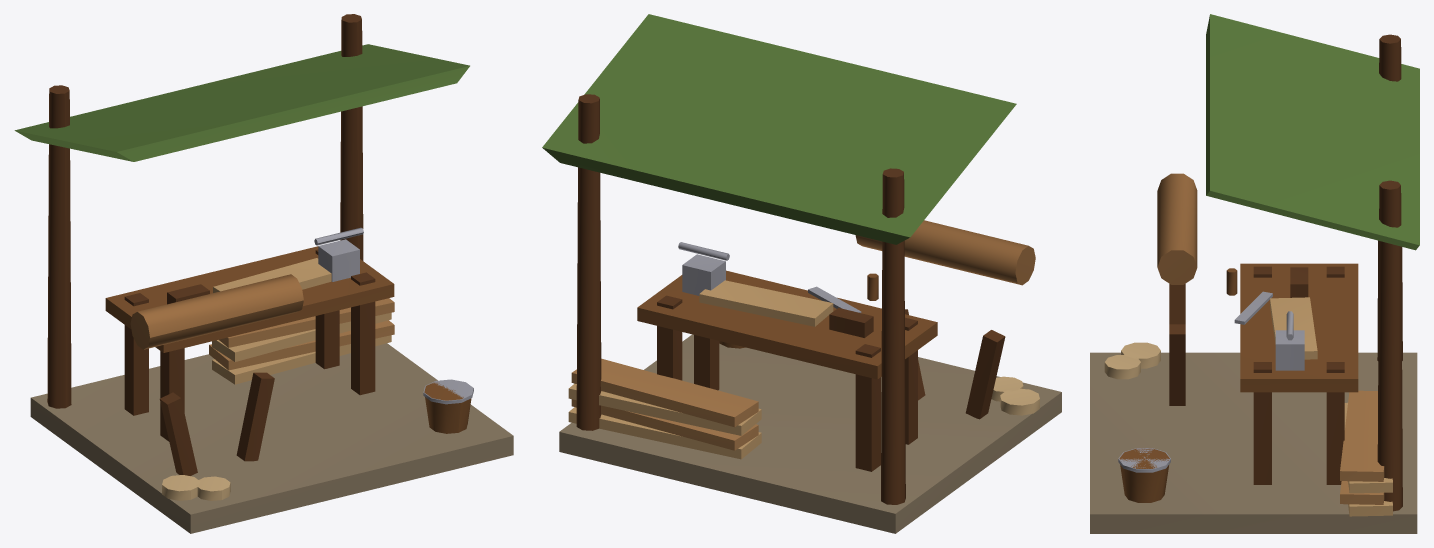
File: wood-workshop.glb
3 views of the same model, side by side, from view 1: azimuth 30°, elevation 25°; view 2: azimuth 150°, elevation 25°; view 3: azimuth 270°, elevation 25° (orthographic). The views are drawn at different scales.
Parts seen in each view (by area): view 1: workshop-floor, roof, bench-top, roof-post-l, log-on-buck, roof-post-r, bench-leg-4, bench-leg-1, buck-leg-2, buck-leg-1, bucket, stack-2 (+10 smaller); view 2: roof, workshop-floor, bench-top, roof-post-l, roof-post-r, log-on-buck, stack-3, bench-plank, bench-leg-1, stack-1, stack-0, stack-2 (+7 smaller); view 3: workshop-floor, roof, bench-top, roof-post-r, log-on-buck, stack-3, bucket, bench-leg-4, bench-leg-2, bench-plank, buck-leg-2, roof-post-l (+10 smaller).
Boxes of the visible parts, x1,y1,x2,y2 form: workshop-floor: [30, 343, 513, 533]; roof: [14, 44, 469, 161]; bench-top: [105, 246, 394, 352]; roof-post-l: [47, 85, 71, 408]; log-on-buck: [130, 274, 303, 349]; roof-post-r: [340, 14, 363, 260]; bench-leg-4: [351, 272, 375, 395]; bench-leg-1: [124, 293, 148, 415]; buck-leg-2: [236, 372, 274, 461]; buck-leg-1: [159, 392, 197, 475]; bucket: [424, 382, 471, 433]; stack-2: [212, 312, 391, 361]; roof: [542, 14, 1016, 244]; workshop-floor: [559, 334, 1061, 533]; bench-top: [637, 270, 937, 379]; roof-post-l: [881, 168, 905, 504]; roof-post-r: [576, 94, 601, 430]; log-on-buck: [855, 220, 1035, 285]; stack-3: [571, 358, 758, 427]; bench-plank: [699, 280, 833, 326]; bench-leg-1: [855, 344, 880, 471]; stack-1: [571, 399, 758, 450]; stack-0: [568, 407, 761, 459]; stack-2: [568, 383, 761, 435]; workshop-floor: [1090, 352, 1417, 533]; roof: [1206, 14, 1419, 250]; bench-top: [1240, 263, 1358, 392]; roof-post-r: [1377, 180, 1402, 511]; log-on-buck: [1157, 173, 1197, 284]; stack-3: [1340, 390, 1384, 481]; bucket: [1119, 448, 1169, 502]; bench-leg-4: [1253, 362, 1271, 484]; bench-leg-2: [1326, 362, 1344, 484]; bench-plank: [1270, 297, 1317, 359]; buck-leg-2: [1169, 324, 1185, 405]; roof-post-l: [1377, 34, 1402, 360].
Bounding box in the file's own units: 2.3 × 2.13 × 1.81.
